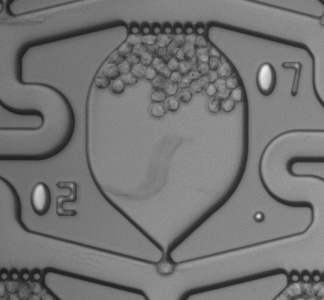AptNum: (249, 56, 311, 101)
Marker: (245, 203, 275, 230)
StNum: (23, 176, 85, 226)
Trap: (145, 253, 189, 295)
